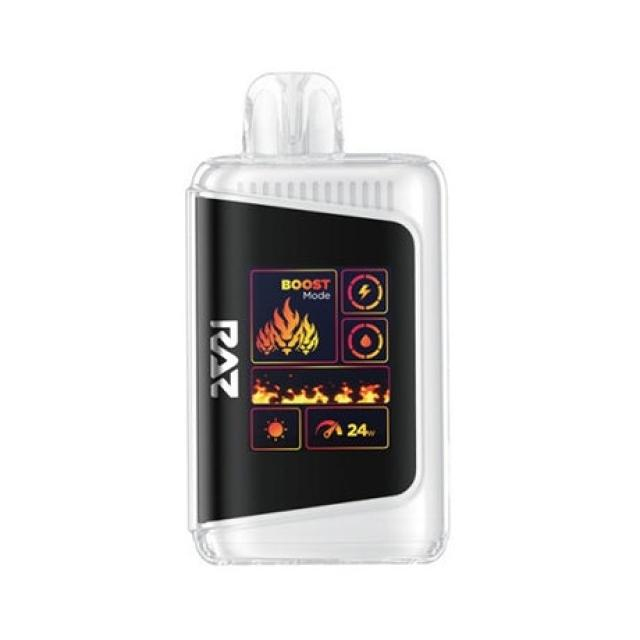Vapes: (184, 70, 449, 566)
